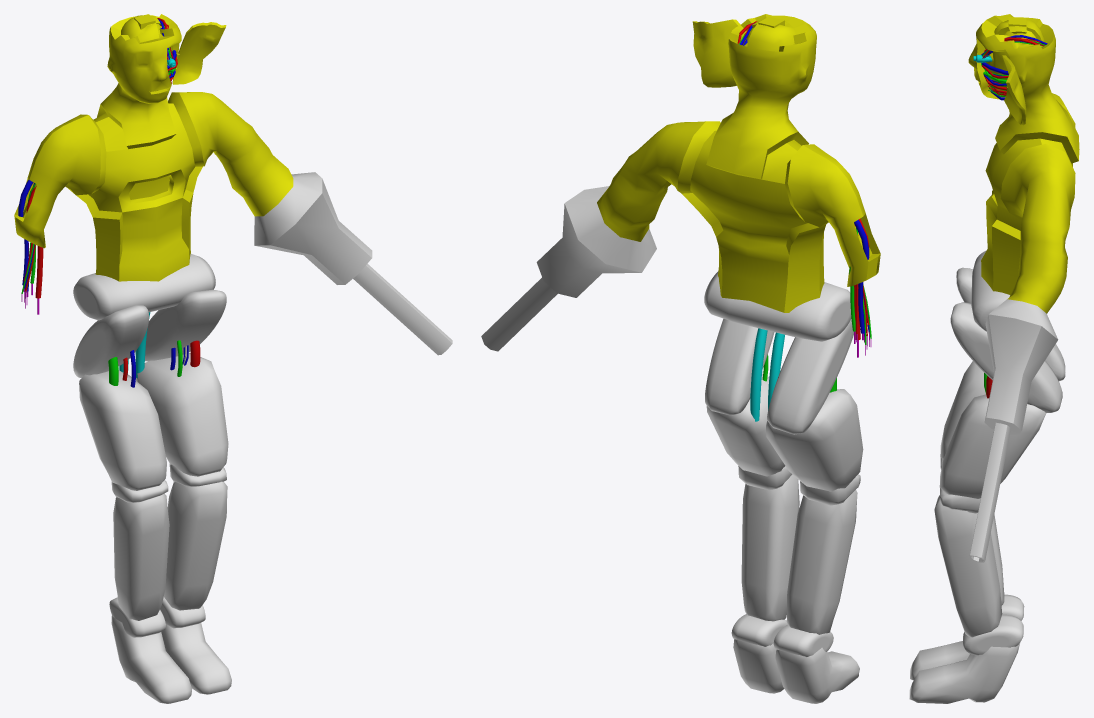
Rendered from robot.fbx.
The picture shows the model from 3 angles, left to right: view 1: azimuth 30°, elevation 25°; view 2: azimuth 150°, elevation 25°; view 3: azimuth 270°, elevation 25°; orthographic projection. The views are drawn at different scales.
Parts seen in each view (by area): view 1: Box003, Cylinder010, Cylinder008; view 2: Cylinder010, Box003, Cylinder008; view 3: Cylinder010, Box003.
Boxes of the visible parts, bbox=[...] form: Box003: bbox=[73, 254, 231, 703]; Cylinder010: bbox=[14, 14, 452, 355]; Cylinder008: bbox=[18, 179, 200, 387]; Cylinder010: bbox=[481, 14, 880, 351]; Box003: bbox=[704, 271, 863, 703]; Cylinder008: bbox=[750, 218, 871, 421]; Cylinder010: bbox=[968, 14, 1079, 562]; Box003: bbox=[909, 250, 1065, 703].
Size of the model in its own units: 5.09 by 7.78 by 1.8.
